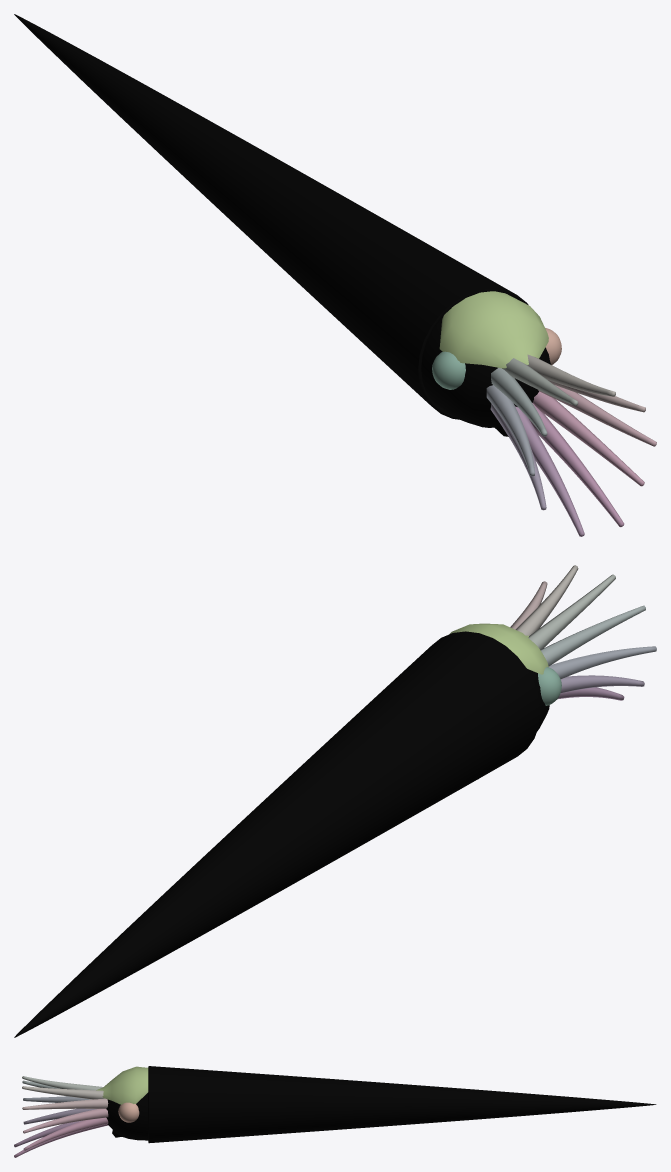
File: cameroceras_game.glb
3 views of the same model, one above another, from view 1: azimuth 30°, elevation 25°; view 2: azimuth 150°, elevation 25°; view 3: azimuth 270°, elevation 25° (orthographic). The views are drawn at different scales.
Visible parts, largest first — view 1: cameroceras_game; view 2: cameroceras_game; view 3: cameroceras_game.
Boxes of the visible parts, x1,y1,x2,y2 form: cameroceras_game: [14, 14, 656, 536]; cameroceras_game: [14, 565, 656, 1037]; cameroceras_game: [14, 1066, 656, 1157].
Bounding box in the file's own units: 0.7476 × 0.8571 × 6.01.
